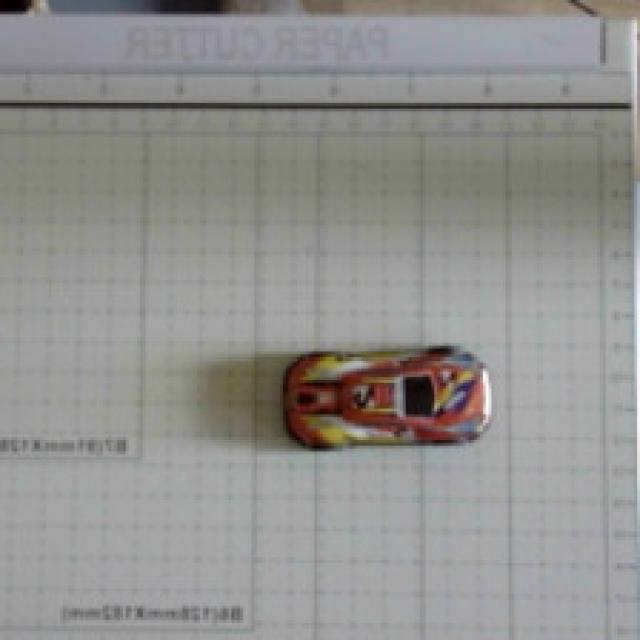Red Car: (242, 282, 524, 513)
